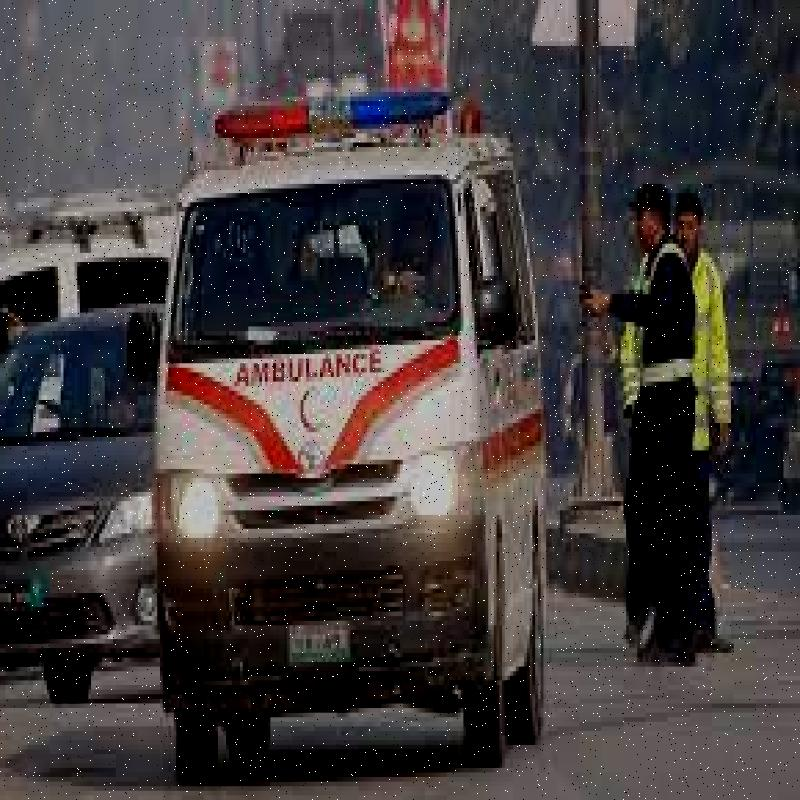ambulance: (132, 78, 555, 800)
